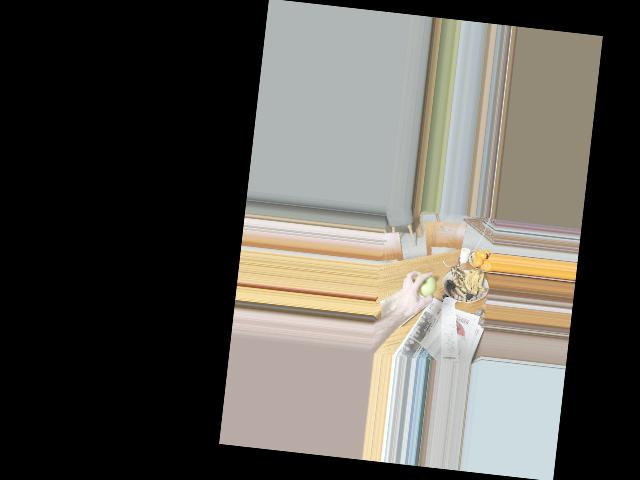apple: (415, 274, 435, 297)
